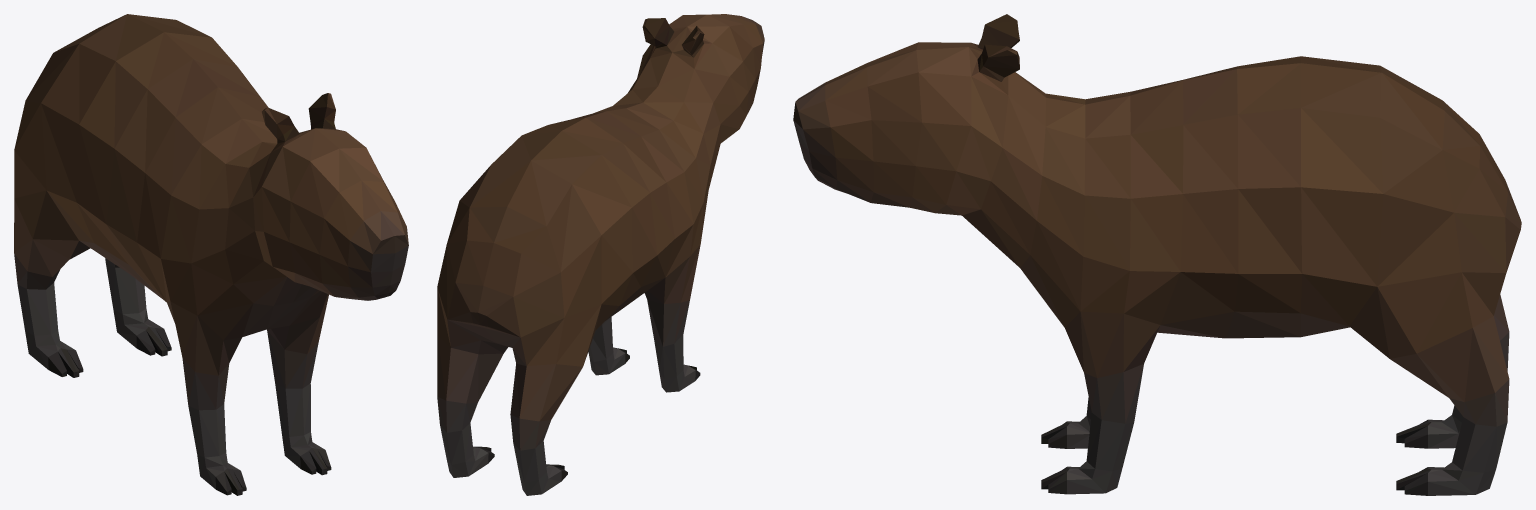
Rendered from capybara.glb.
The picture shows the model from 3 angles, left to right: view 1: azimuth 30°, elevation 25°; view 2: azimuth 150°, elevation 25°; view 3: azimuth 270°, elevation 25°; orthographic projection. The views are drawn at different scales.
Visible parts, largest first — view 1: zoo-capybara; view 2: zoo-capybara; view 3: zoo-capybara.
Part boxes in pixels (x1,y1,x2,y2): zoo-capybara: (14, 14, 408, 495); zoo-capybara: (437, 14, 764, 495); zoo-capybara: (793, 14, 1521, 495).
Size of the model in its own units: 0.2321 by 0.5069 by 0.7693.
